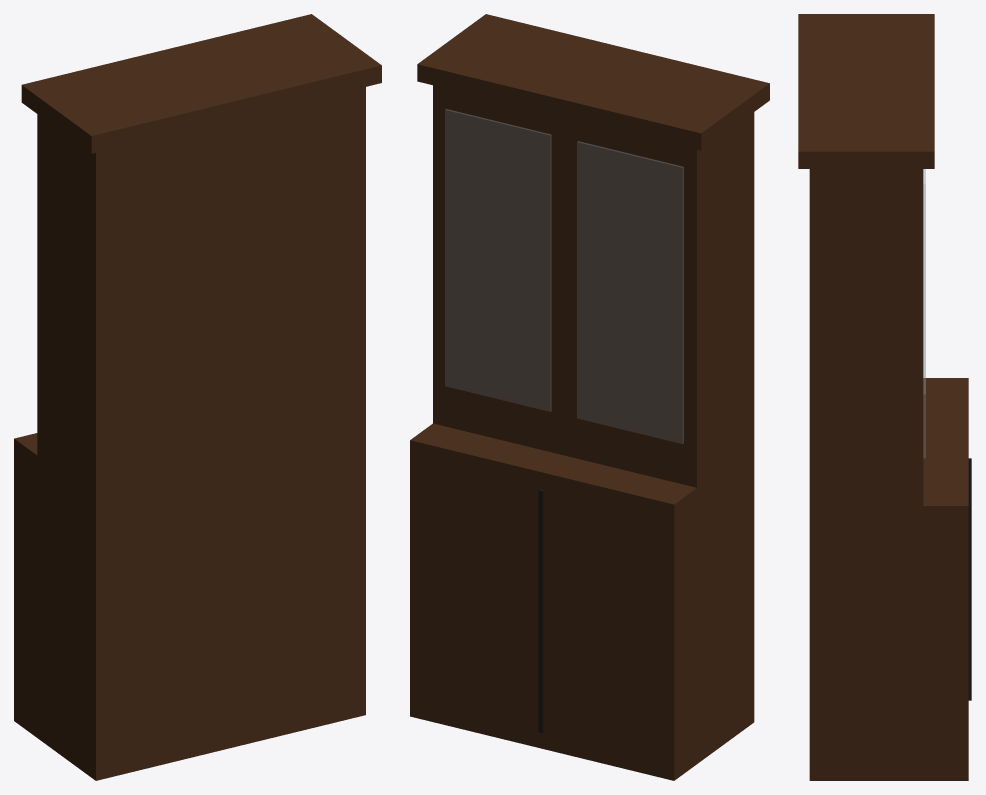
Rendered from hutch.glb.
3 renders of one model, left to right at view 1: azimuth 30°, elevation 25°; view 2: azimuth 150°, elevation 25°; view 3: azimuth 270°, elevation 25°, orthographic. The views are drawn at different scales.
Parts seen in each view (by area): view 1: hutch; view 2: hutch; view 3: hutch.
Boxes of the visible parts, <box> form: hutch: <box>14,14,381,780</box>; hutch: <box>410,14,769,780</box>; hutch: <box>798,14,971,780</box>.
Bounding box in the file's own units: 0.86 × 1.85 × 0.458.
